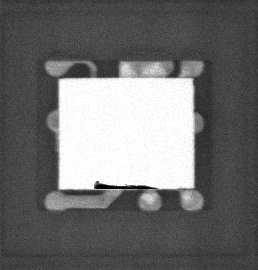DIE_BROKEN: (91, 180, 159, 190)
